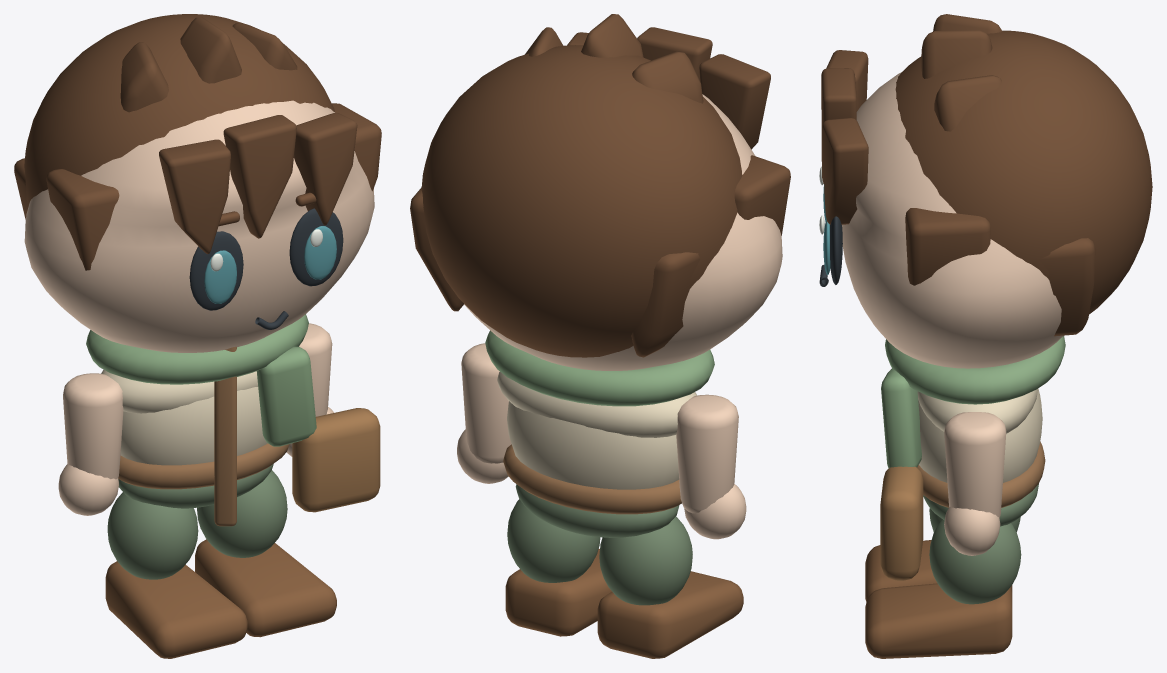
Rendered from ChibiPlayerPrototype.glb.
3 renders of one model, left to right at view 1: azimuth 30°, elevation 25°; view 2: azimuth 150°, elevation 25°; view 3: azimuth 270°, elevation 25°, orthographic. The views are drawn at different scales.
Visible parts, largest first — view 1: Player_Head, Player_Hair_BackCap, Player_Boot_L, Player_Boot_R, Player_Satchel_Bag, Player_Torso, Player_Scarf_Wrap, Player_Leg_L, Player_Hair_Bang_C, Player_Hair_Bang_L, Player_Arm_L, Player_Scarf_Tail (+17 smaller); view 2: Player_Hair_BackCap, Player_Head, Player_Torso, Player_Scarf_Wrap, Player_Boot_L, Player_Arm_L, Player_Leg_L, Player_Boot_R, Player_Shoulders, Player_Leg_R, Player_Belt, Player_Arm_R (+11 smaller); view 3: Player_Hair_BackCap, Player_Head, Player_Boot_R, Player_Scarf_Wrap, Player_Arm_R, Player_Leg_R, Player_Satchel_Bag, Player_Hair_Temple_R, Player_Hair_Bang_R, Player_Hair_Back_R, Player_Torso, Player_Scarf_Tail (+11 smaller).
Part boxes in pixels (<box>): Player_Head: <box>24,100,374,352</box>; Player_Hair_BackCap: <box>24,14,335,206</box>; Player_Boot_L: <box>105,561,247,658</box>; Player_Boot_R: <box>195,539,336,637</box>; Player_Satchel_Bag: <box>292,408,380,512</box>; Player_Torso: <box>120,387,267,465</box>; Player_Scarf_Wrap: <box>86,314,308,384</box>; Player_Leg_L: <box>107,492,198,579</box>; Player_Hair_Bang_C: <box>223,115,296,238</box>; Player_Hair_Bang_L: <box>159,139,230,254</box>; Player_Arm_L: <box>63,373,123,479</box>; Player_Scarf_Tail: <box>256,346,316,446</box>; Player_Hair_BackCap: <box>421,45,741,357</box>; Player_Head: <box>464,94,782,370</box>; Player_Torso: <box>507,401,679,489</box>; Player_Scarf_Wrap: <box>485,330,714,406</box>; Player_Boot_L: <box>597,571,743,658</box>; Player_Arm_L: <box>676,394,738,513</box>; Player_Leg_L: <box>599,516,692,605</box>; Player_Boot_R: <box>505,549,611,636</box>; Player_Shoulders: <box>497,372,697,437</box>; Player_Leg_R: <box>507,499,600,582</box>; Player_Belt: <box>503,444,681,514</box>; Player_Arm_R: <box>461,343,511,463</box>; Player_Hair_BackCap: <box>895,30,1152,314</box>; Player_Head: <box>842,72,1063,368</box>; Player_Boot_R: <box>865,583,1012,658</box>; Player_Scarf_Wrap: <box>885,336,1065,404</box>; Player_Arm_R: <box>944,412,1006,517</box>; Player_Leg_R: <box>929,519,1021,604</box>; Player_Satchel_Bag: <box>880,466,923,580</box>; Player_Hair_Temple_R: <box>905,208,990,285</box>; Player_Hair_Bang_R: <box>822,118,868,224</box>; Player_Hair_Back_R: <box>1039,238,1095,336</box>; Player_Torso: <box>918,388,1042,482</box>; Player_Scarf_Tail: <box>881,368,921,468</box>.
Bounding box in the file's own units: 1.23 × 2.13 × 1.09.
